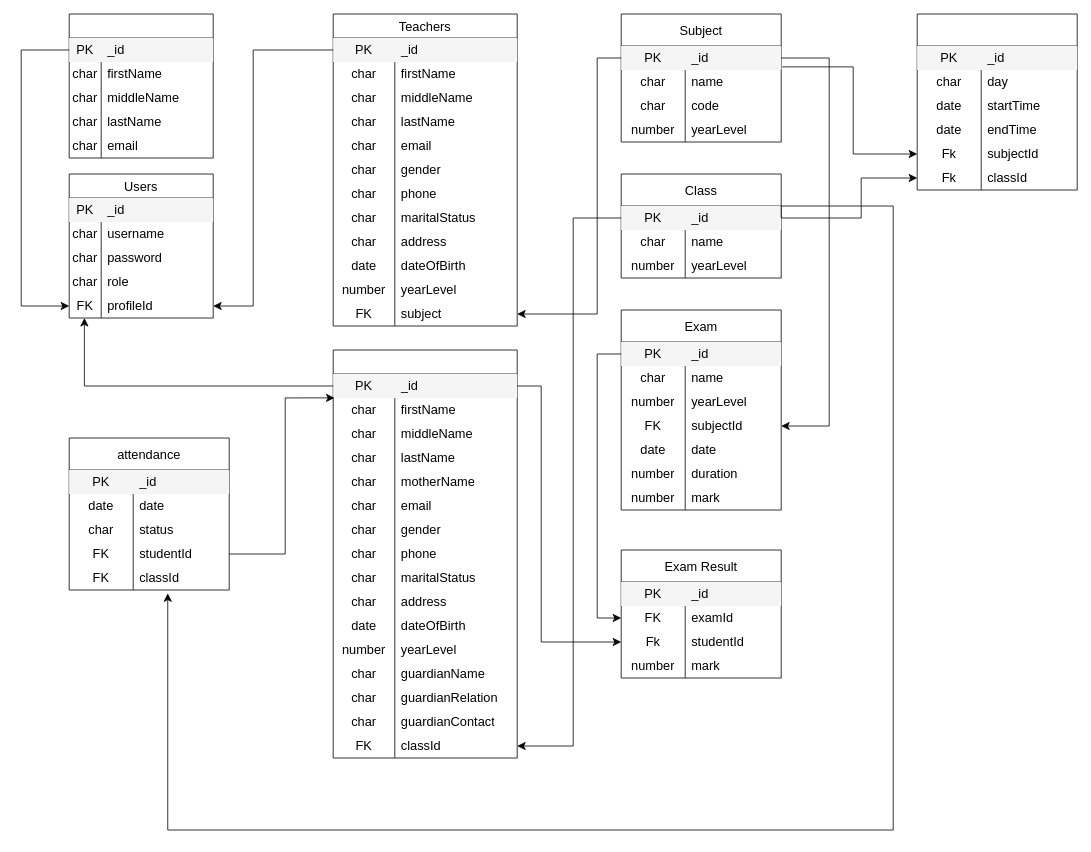
This 1091x852 diagram has some shape labels left out. Here are the shapes that lost their labels. From the top down, the box of each, then its label:
(68, 13, 213, 158): Admins
(916, 13, 1077, 190): subejct schedule
(332, 349, 517, 758): Students
